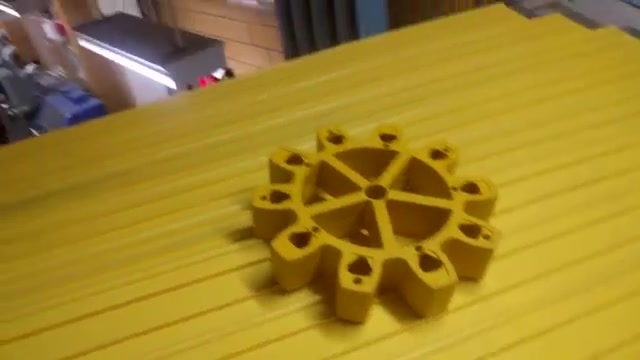gear: (242, 108, 516, 338)
